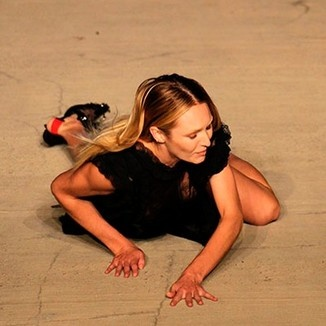falling: (41, 40, 281, 323)
